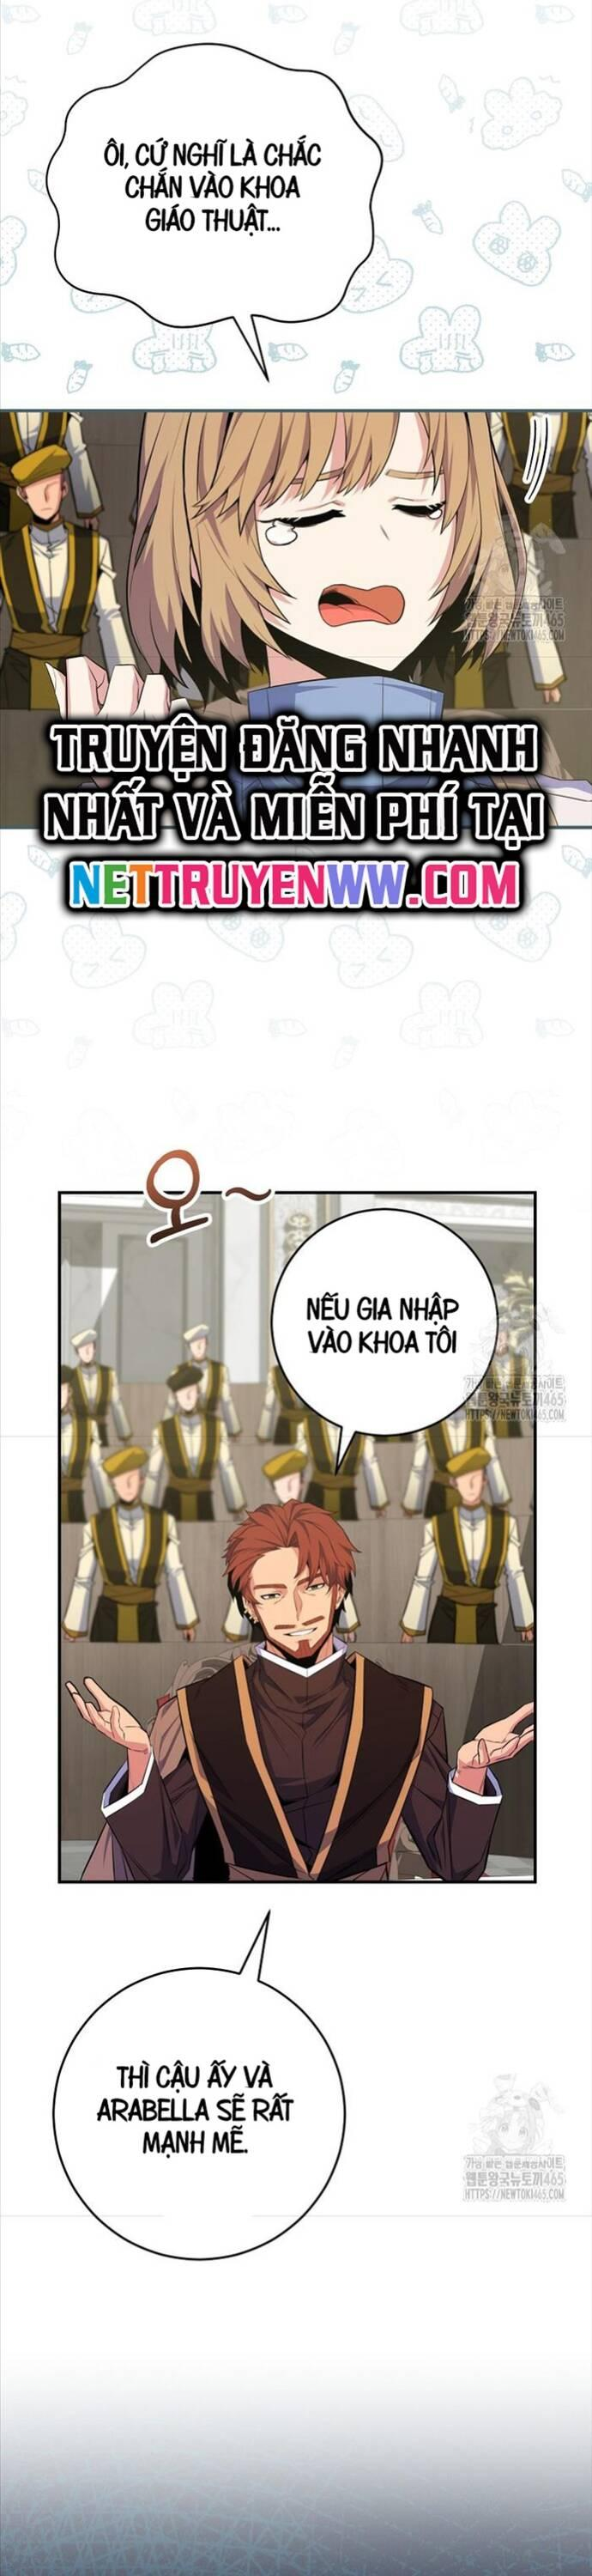quangcao: (39, 708, 558, 927)
